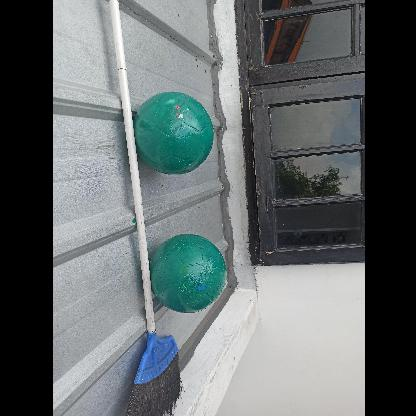green_ball: (129, 91, 212, 174), (148, 232, 228, 312)
